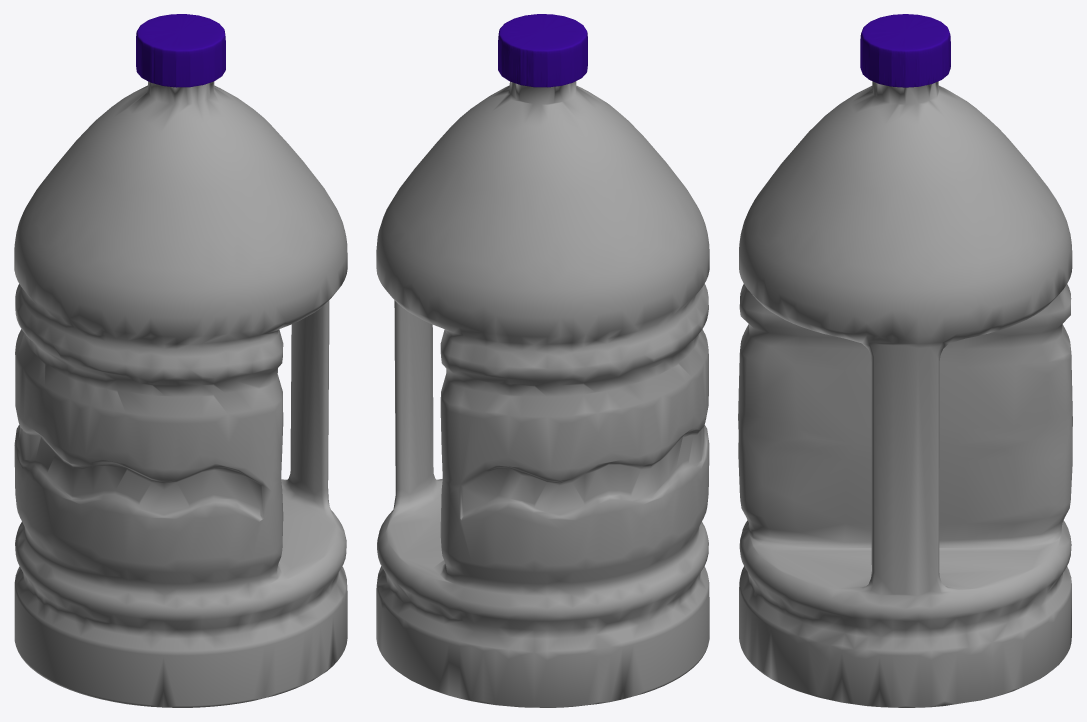
Rendered from water_bottle.glb.
The picture shows the model from 3 angles, left to right: view 1: azimuth 30°, elevation 25°; view 2: azimuth 150°, elevation 25°; view 3: azimuth 270°, elevation 25°; orthographic projection.
Visible parts, largest first — view 1: Object_3, Object_2; view 2: Object_3, Object_2; view 3: Object_3, Object_2.
Boxes of the visible parts, x1,y1,x2,y2 form: Object_3: (14, 81, 347, 707); Object_2: (136, 14, 225, 87); Object_3: (376, 81, 709, 707); Object_2: (498, 14, 587, 87); Object_3: (738, 81, 1072, 707); Object_2: (860, 14, 950, 87).
Bounding box in the file's own units: 1.97 × 3.95 × 1.98.
